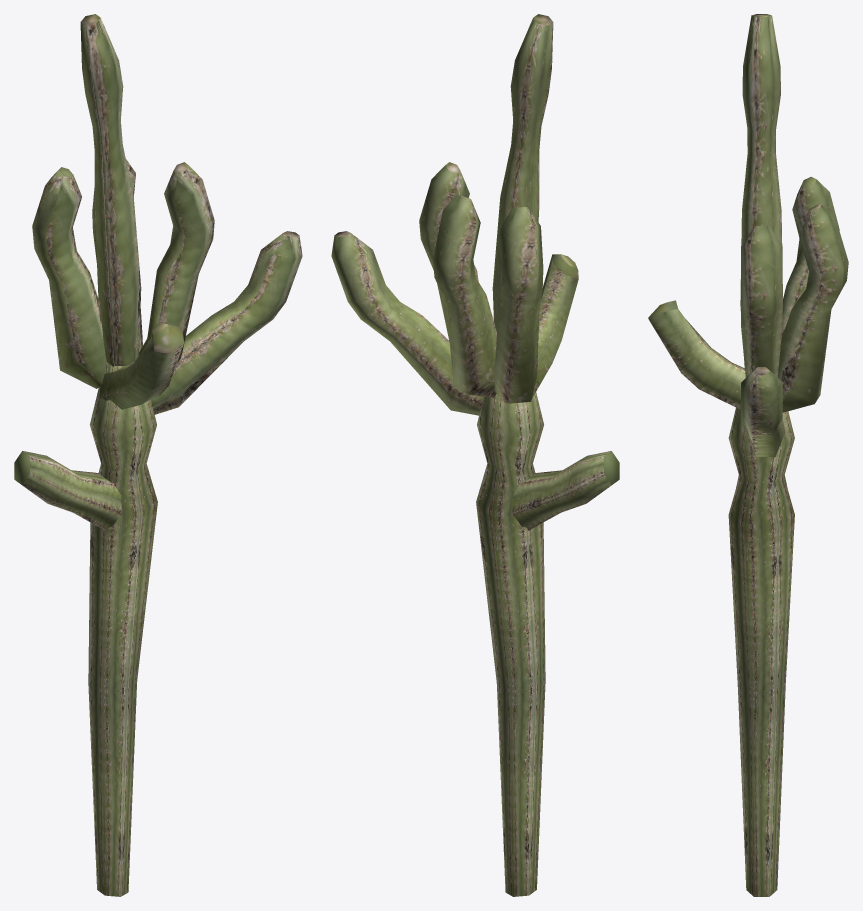
File: cactus_stenocerus_large_a.dae
3 views of the same model, side by side, from view 1: azimuth 30°, elevation 25°; view 2: azimuth 150°, elevation 25°; view 3: azimuth 270°, elevation 25° (orthographic).
Parts seen in each view (by area): view 1: Circle; view 2: Circle; view 3: Circle.
Boxes of the visible parts, x1,y1,x2,y2 form: Circle: (14,14,302,896); Circle: (331,14,619,896); Circle: (648,14,848,896).
Size of the model in its own units: 6.17 by 3.9 by 18.6.
